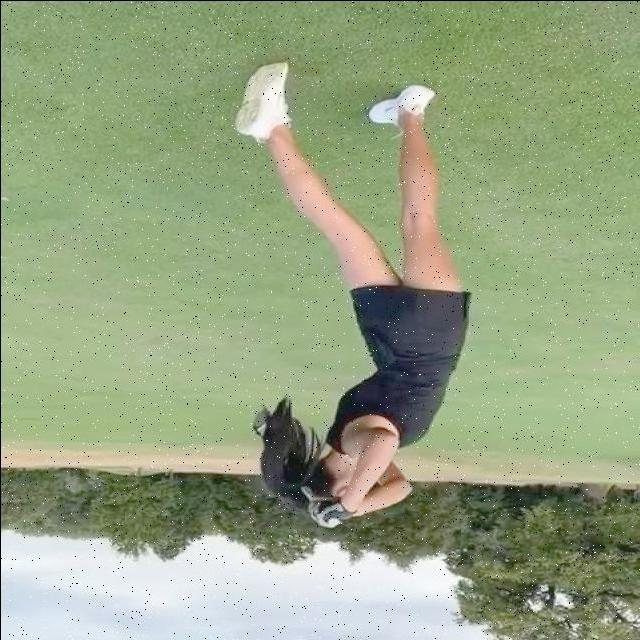ClubHandle: (251, 407, 340, 523)
ClubHead: (251, 407, 269, 433)
